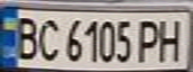0: (97, 17, 118, 63)
1: (81, 17, 100, 63)
5: (115, 17, 139, 64)
6: (60, 16, 84, 63)
B: (9, 12, 42, 61)
C: (33, 15, 63, 62)
H: (154, 16, 190, 63)
P: (133, 16, 163, 63)
